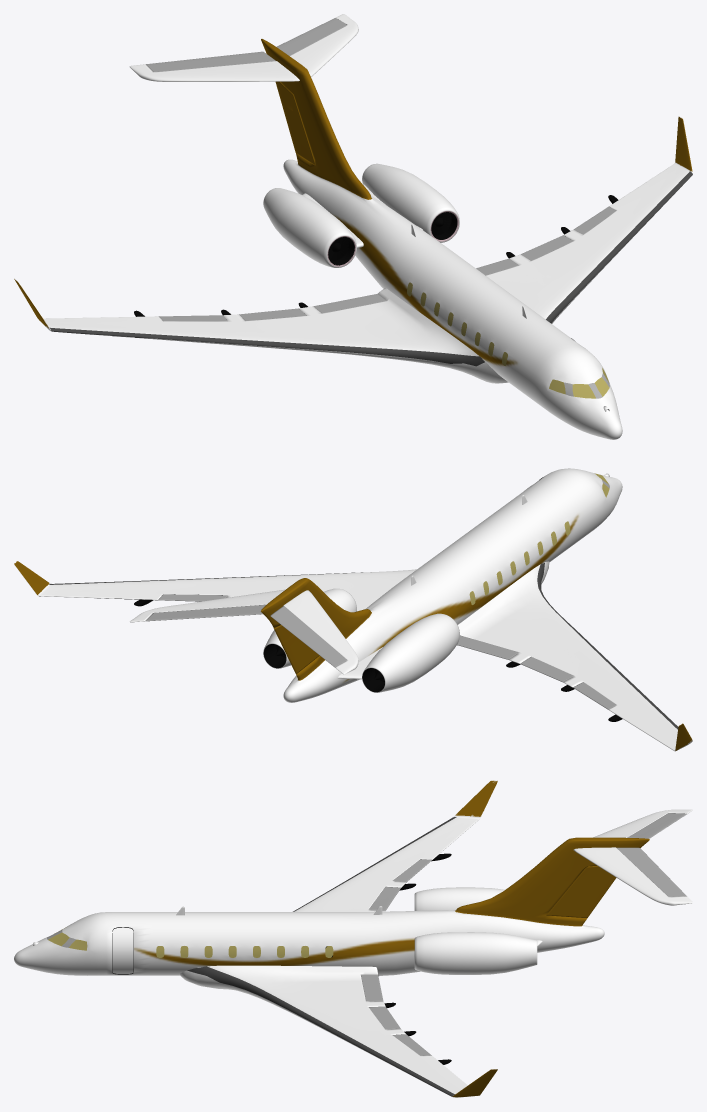
Rendered from bizjet.glb.
3 renders of one model, top to bottom at view 1: azimuth 30°, elevation 25°; view 2: azimuth 150°, elevation 25°; view 3: azimuth 270°, elevation 25°, orthographic. The views are drawn at different scales.
Parts seen in each view (by area): view 1: BODY; view 2: BODY; view 3: BODY.
Boxes of the visible parts, box(x1,y1,x2,y2) form: BODY: box(14, 14, 692, 439); BODY: box(14, 468, 692, 751); BODY: box(14, 780, 692, 1097).
Size of the model in its own units: 26.4 by 6.26 by 26.22.
Materials: 8 (2 with a texture image).
